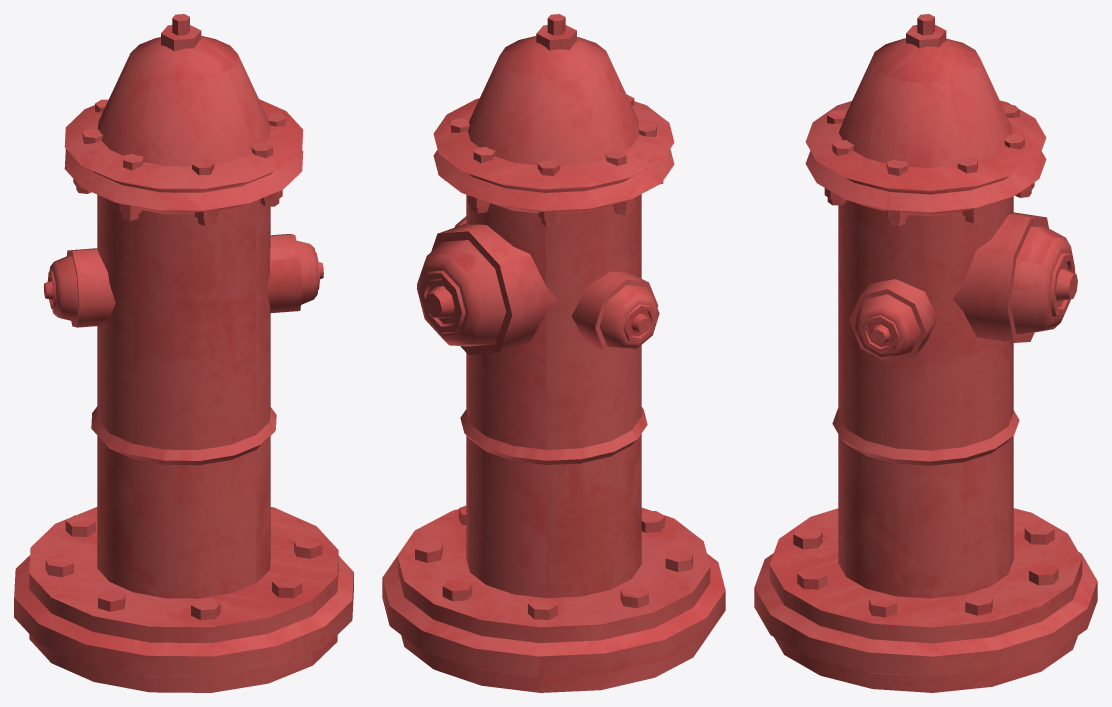
File: sm_stob_004.fbx
The picture shows the model from 3 angles, left to right: view 1: azimuth 30°, elevation 25°; view 2: azimuth 150°, elevation 25°; view 3: azimuth 270°, elevation 25°; orthographic projection.
Parts seen in each view (by area): view 1: sm_stob_004; view 2: sm_stob_004; view 3: sm_stob_004.
Part boxes in pixels (left/top/right/bottom): sm_stob_004: left=14, top=14, right=353, bottom=692; sm_stob_004: left=382, top=14, right=725, bottom=692; sm_stob_004: left=754, top=14, right=1097, bottom=692.
Bounding box in the file's own units: 0.3076 × 0.6014 × 0.3076.
